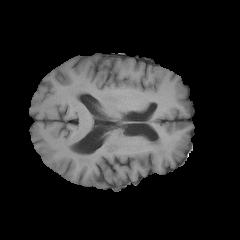glioma: (76, 137, 165, 168)
